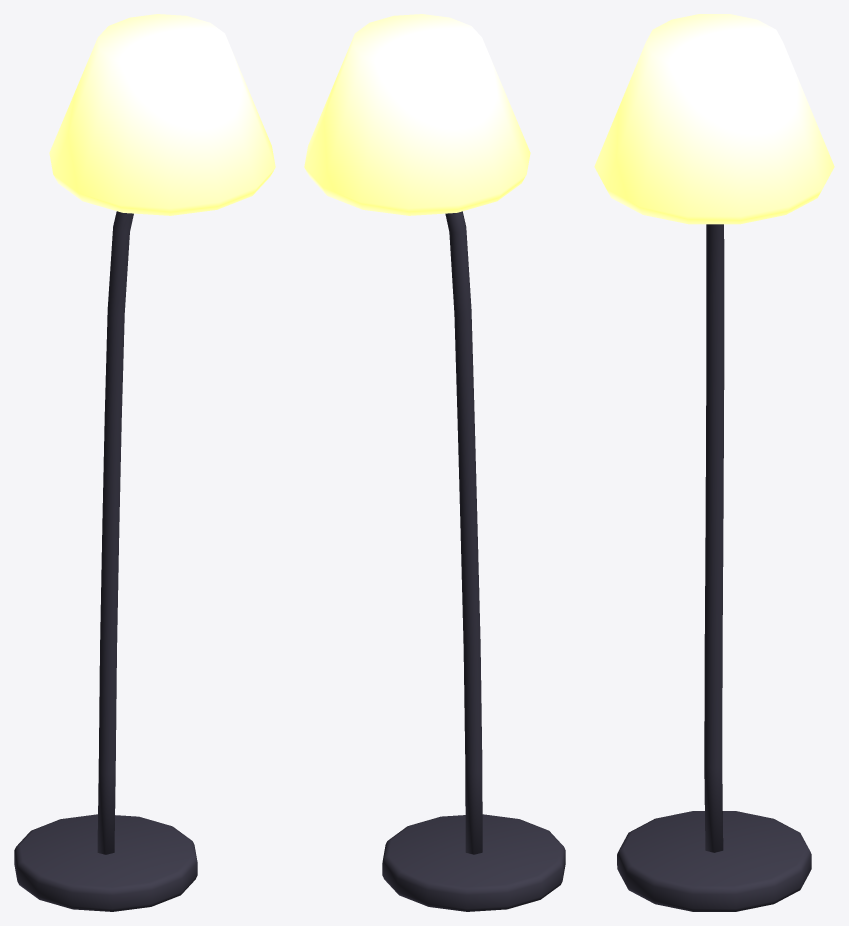
File: floor_lamp.glb
3 renders of one model, left to right at view 1: azimuth 30°, elevation 25°; view 2: azimuth 150°, elevation 25°; view 3: azimuth 270°, elevation 25°, orthographic. The views are drawn at different scales.
Visible parts, largest first — view 1: shade, floor_lamp; view 2: shade, floor_lamp; view 3: shade, floor_lamp.
Part boxes in pixels (x1,y1,x2,y2): shade: (49, 14, 275, 215); floor_lamp: (14, 211, 197, 911); shade: (304, 14, 530, 215); floor_lamp: (382, 211, 565, 911); shade: (594, 14, 834, 224); floor_lamp: (617, 224, 811, 911).
Size of the model in its own units: 0.4905 by 1.66 by 0.42.
